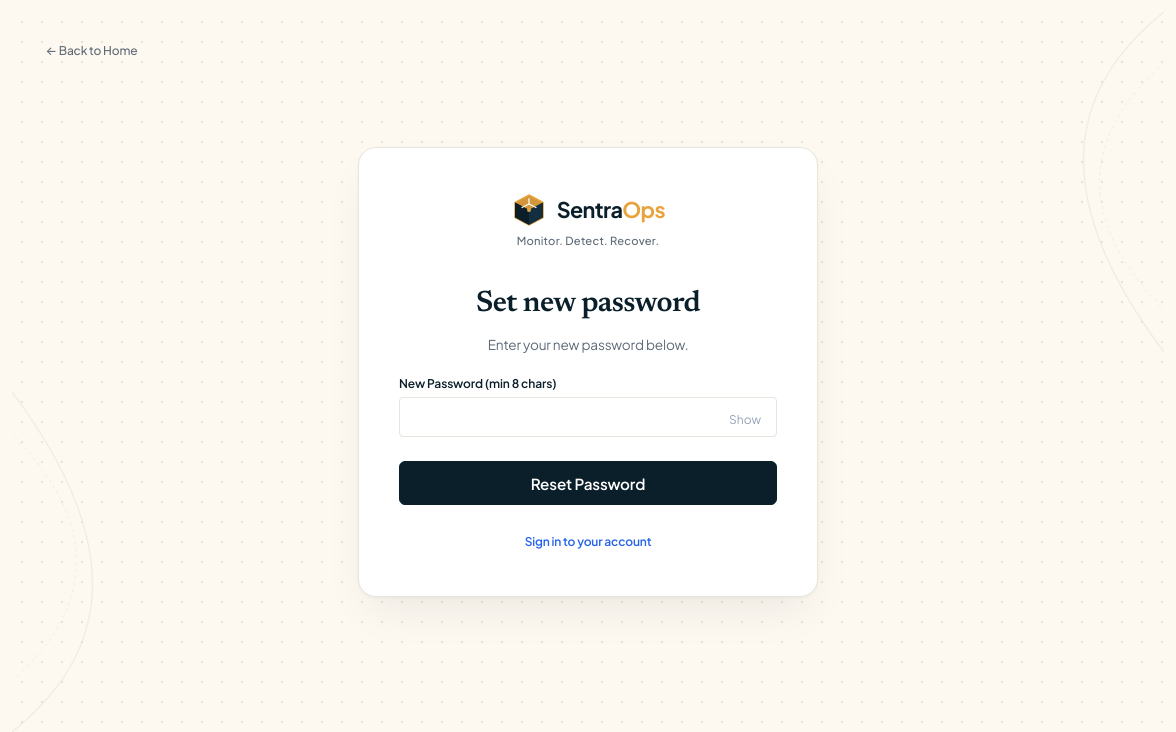
Authentication Flows & Session Hydration › Password Recovery & Reset › handles reset password with token
Expected: the heading "Set new password" is shown, top-left (476, 289), bottom-right (700, 319)
Type "NewPassword123!" into the password field labelled "New Password (min 8 chars)" at (588, 417), box top-left (399, 398), bottom-right (777, 437)
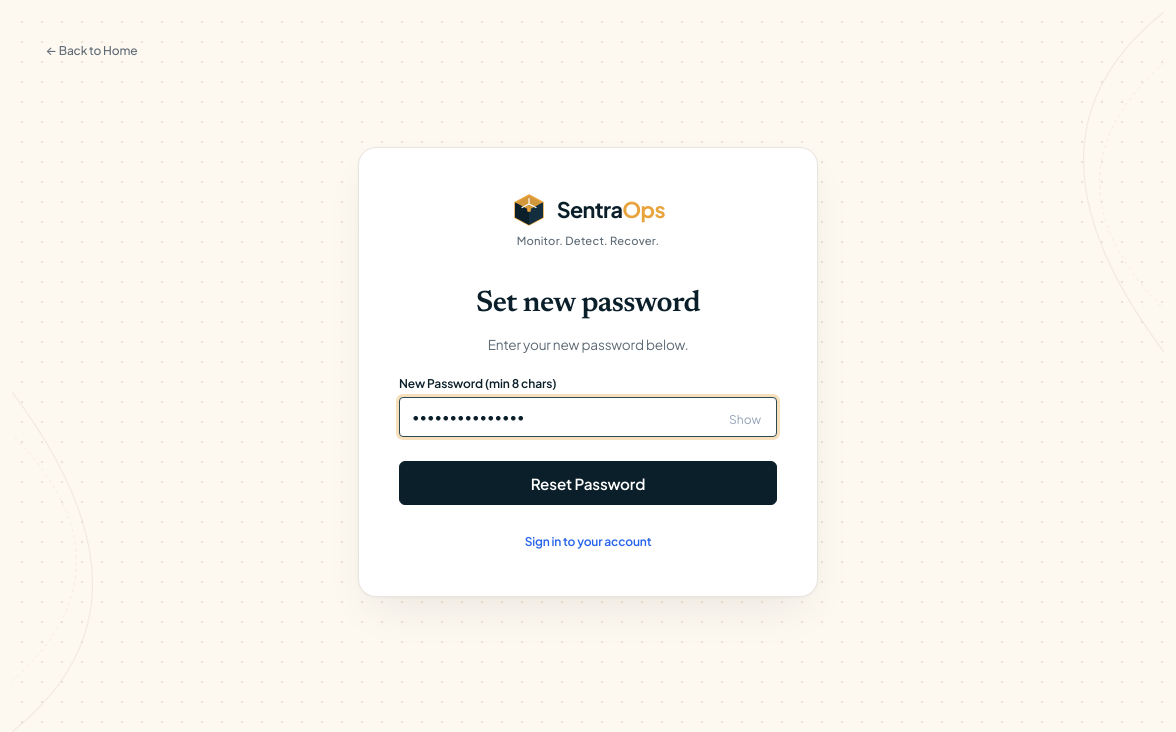
Click the button "Reset Password" at (588, 483), box top-left (399, 461), bottom-right (777, 505)
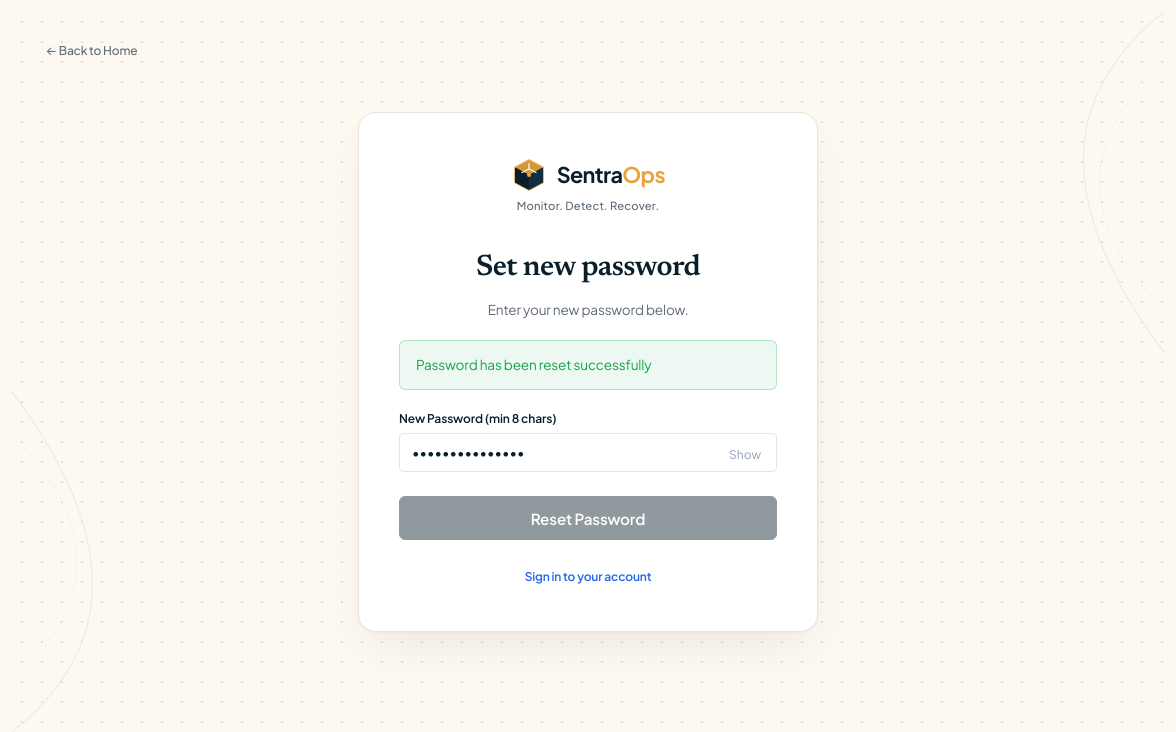
Now the message shows "Password has been reset", box top-left (416, 356), bottom-right (651, 373)
